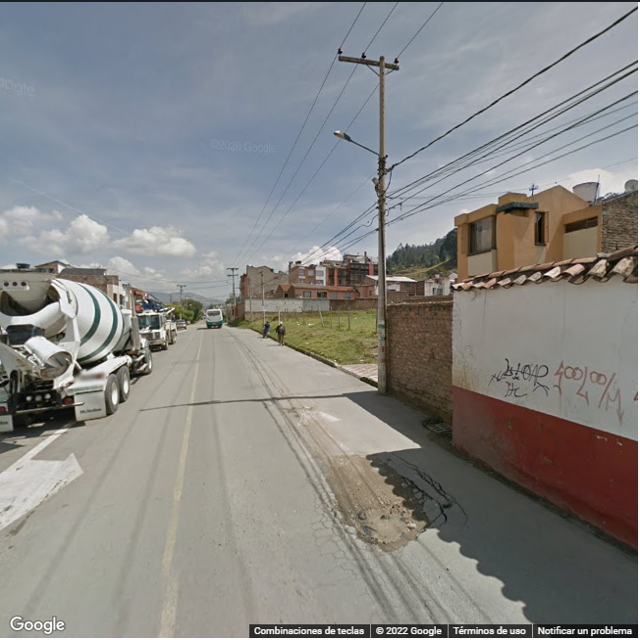D00: (393, 451, 467, 517)
D20: (309, 508, 366, 574)
D40: (355, 508, 421, 543)
